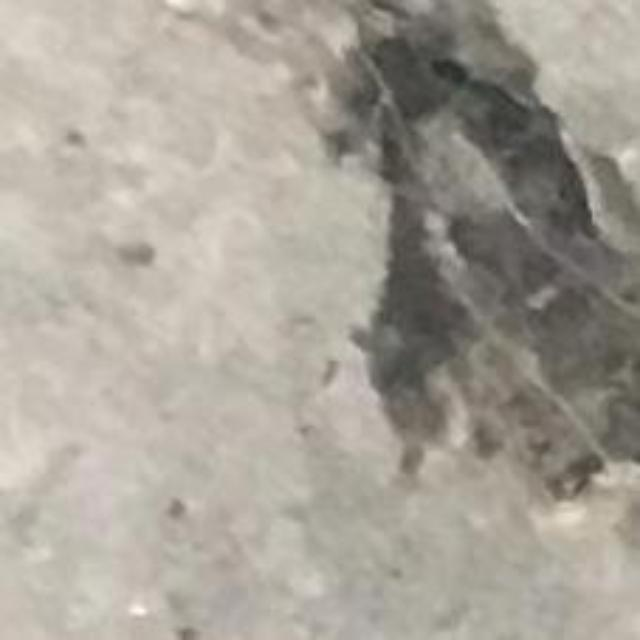crack: (226, 0, 639, 507)
